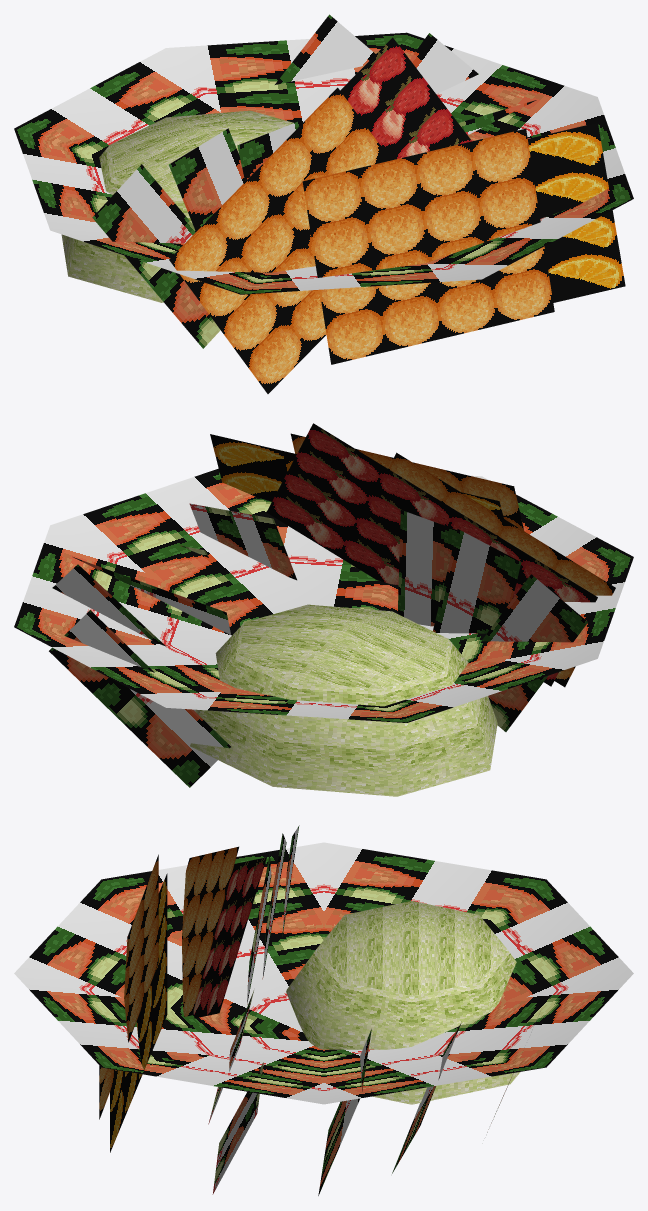
The model's file is 5539u_fri00_ll.gltf.
3 renders of one model, top to bottom at view 1: azimuth 30°, elevation 25°; view 2: azimuth 150°, elevation 25°; view 3: azimuth 270°, elevation 25°, orthographic.
Parts seen in each view (by area): view 1: 5539u_fri00_ll; view 2: 5539u_fri00_ll; view 3: 5539u_fri00_ll.
Part boxes in pixels (box(x1,y1,x2,y2)): 5539u_fri00_ll: box(14, 14, 633, 393); 5539u_fri00_ll: box(14, 423, 633, 796); 5539u_fri00_ll: box(14, 825, 633, 1195).
Size of the model in its own units: 0.8911 by 0.4487 by 0.8911.
5 materials, 5 textured.
